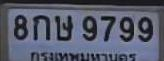7: (100, 15, 115, 41)
8: (13, 14, 27, 39)
9: (137, 16, 152, 41), (82, 15, 96, 40), (119, 16, 133, 41)
A01: (32, 14, 49, 40)
A39: (54, 14, 72, 40)
